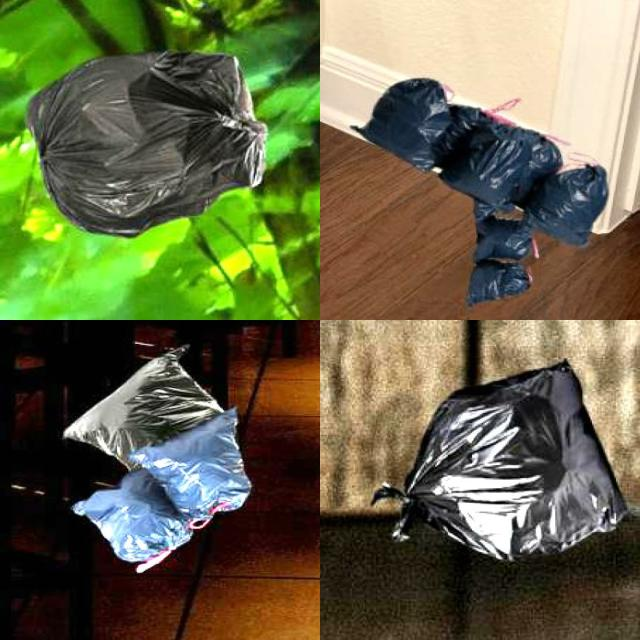Single-layer Plastic: (374, 361, 628, 559), (28, 51, 265, 236), (354, 78, 561, 226), (64, 346, 224, 469), (131, 408, 251, 529), (72, 469, 192, 572), (352, 79, 452, 171), (525, 165, 609, 246)
